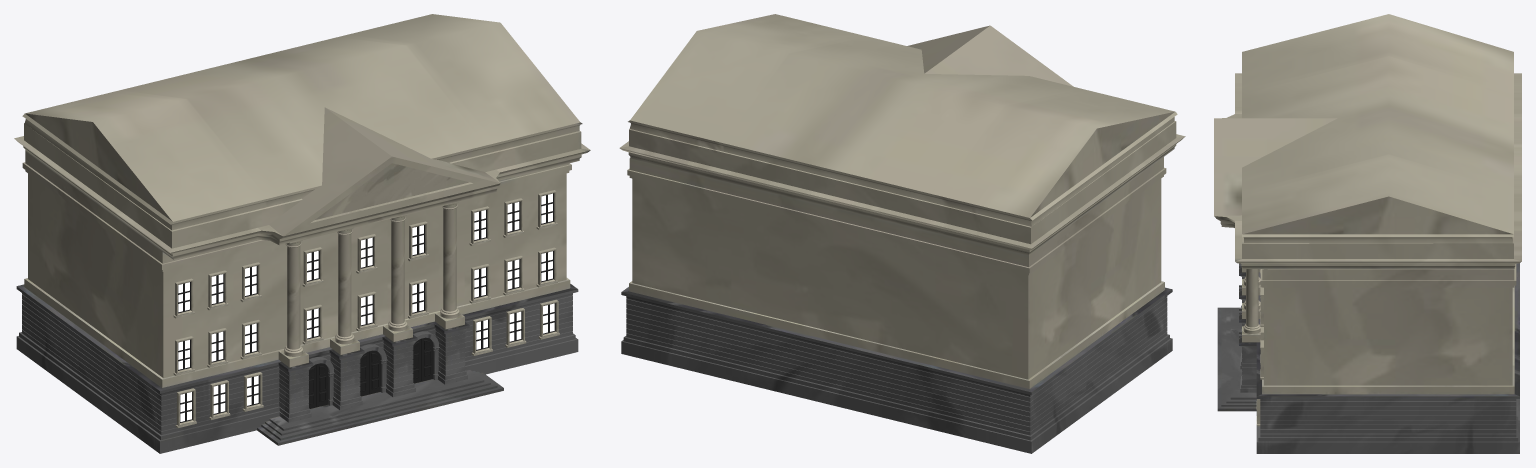
The model's file is museum_hall.glb.
The picture shows the model from 3 angles, left to right: view 1: azimuth 30°, elevation 25°; view 2: azimuth 150°, elevation 25°; view 3: azimuth 270°, elevation 25°; orthographic projection. The views are drawn at different scales.
Visible parts, largest first — view 1: museum_hall; view 2: museum_hall; view 3: museum_hall.
Boxes of the visible parts, <box> form: museum_hall: <box>14,14,590,453</box>; museum_hall: <box>619,14,1185,453</box>; museum_hall: <box>1214,14,1521,453</box>.
Bounding box in the file's own units: 4 × 2.53 × 2.77.
1 material, 1 textured.
